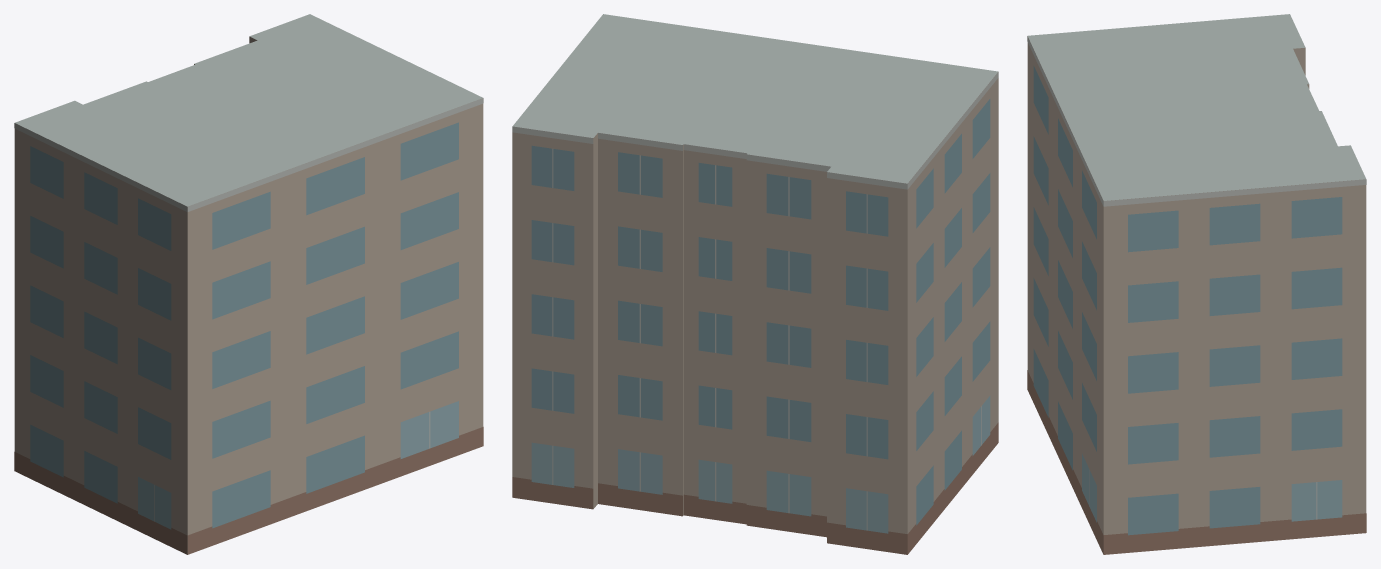
The model's file is survey-upis-32882743.glb.
3 renders of one model, left to right at view 1: azimuth 30°, elevation 25°; view 2: azimuth 150°, elevation 25°; view 3: azimuth 270°, elevation 25°, orthographic. The views are drawn at different scales.
Parts seen in each view (by area): view 1: survey-upis-32882743.tmp; view 2: survey-upis-32882743.tmp; view 3: survey-upis-32882743.tmp.
Boxes of the visible parts, x1,y1,x2,y2 form: survey-upis-32882743.tmp: [14, 14, 483, 554]; survey-upis-32882743.tmp: [512, 14, 998, 554]; survey-upis-32882743.tmp: [1027, 14, 1366, 554].
Bounding box in the file's own units: 17.3 × 15.25 × 13.25.
